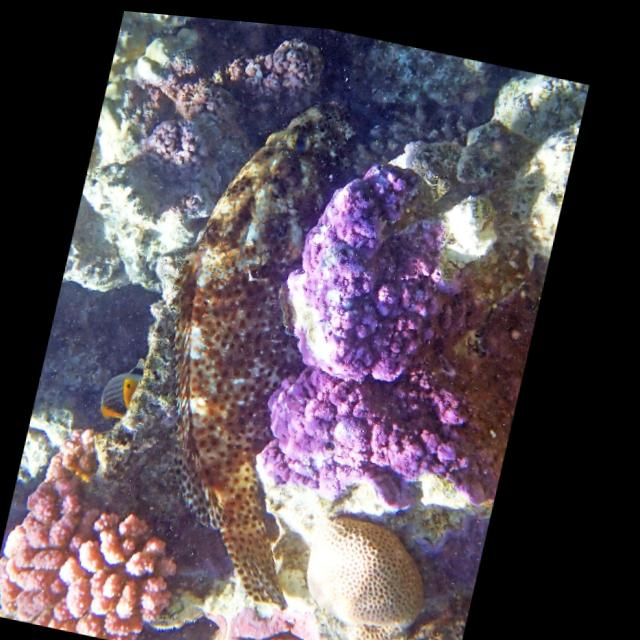Groupers: (108, 72, 398, 614)
